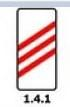road_sign: (16, 7, 58, 92)
